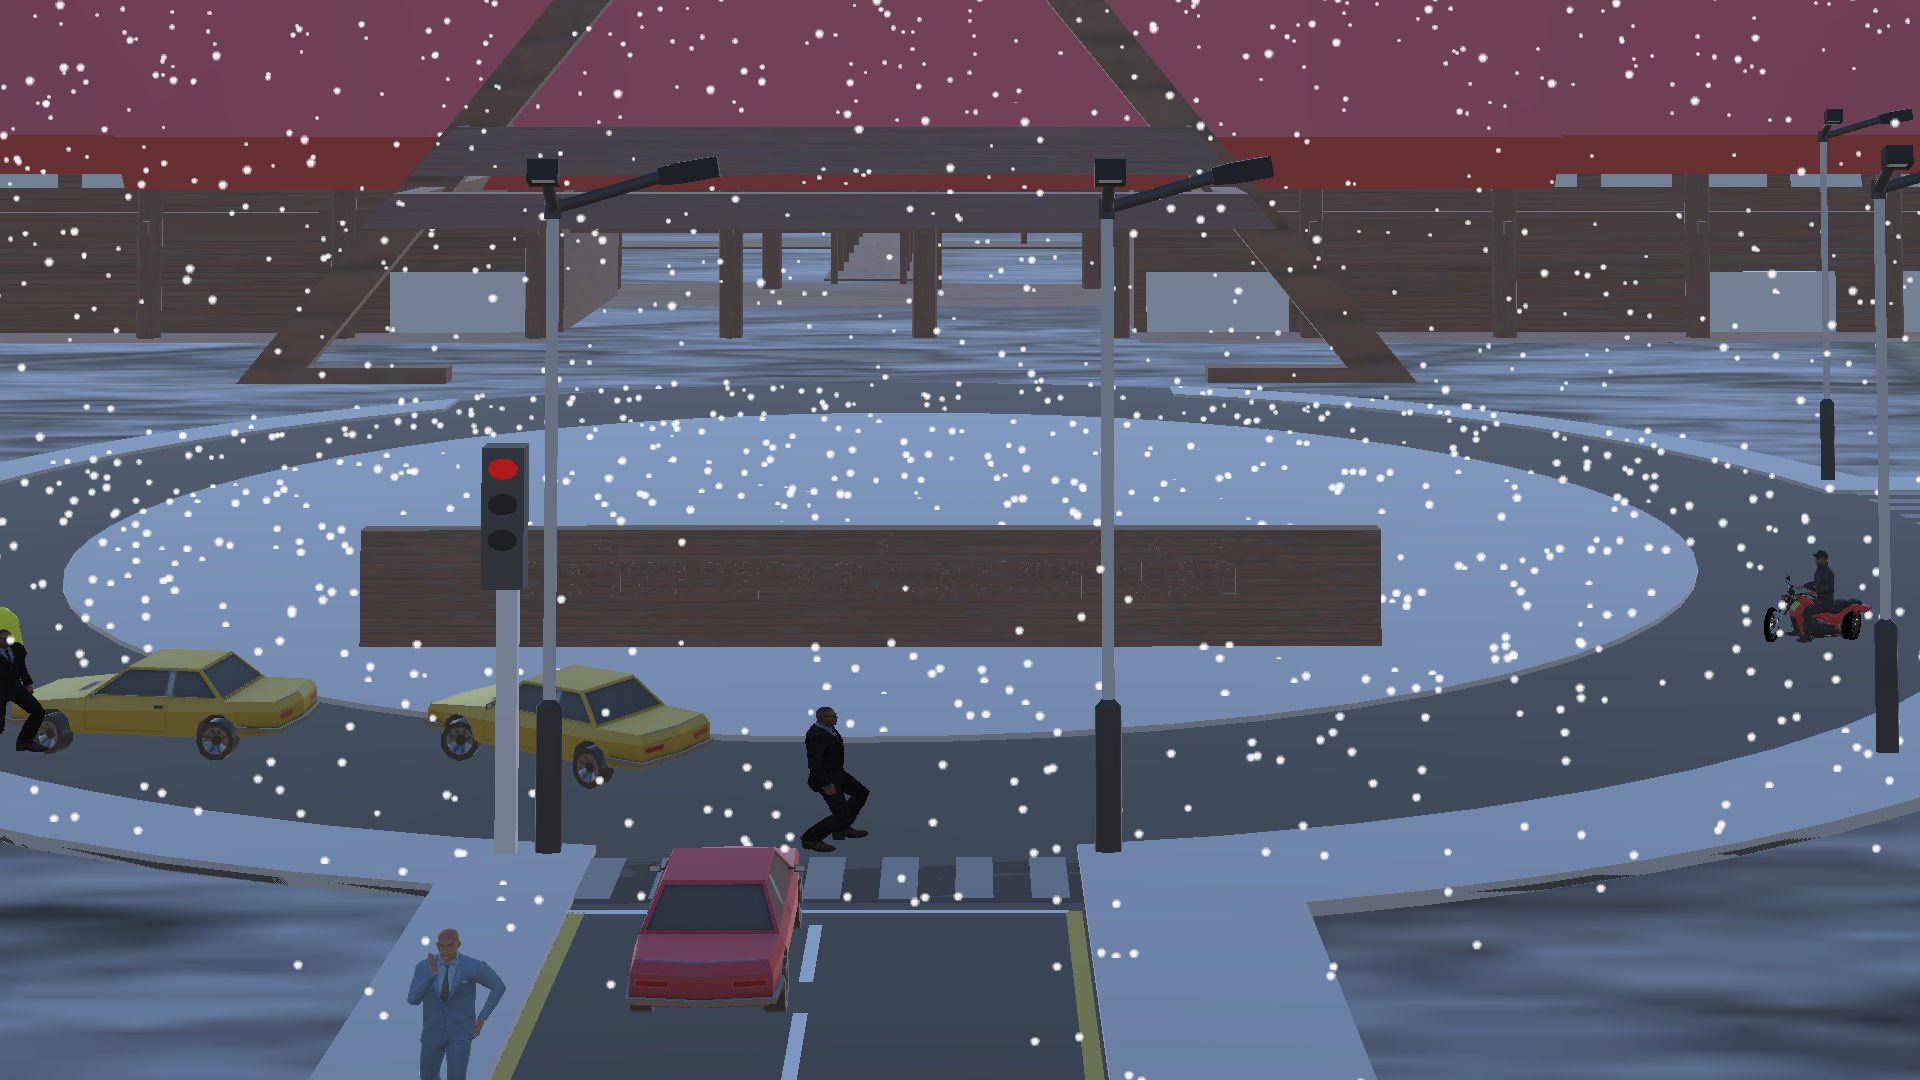pedestrian: (407, 912, 502, 1080), (796, 697, 873, 860)
